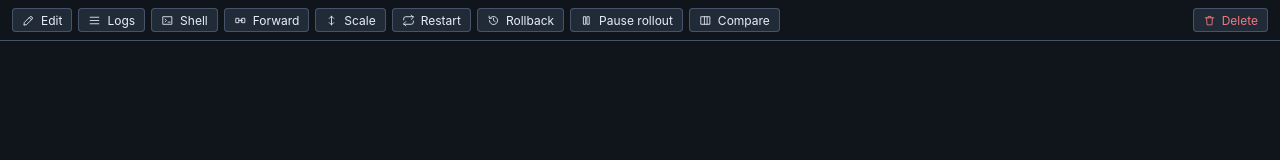
scale opens a field holding the count the workload is at
The image size is (1280, 160).
Click the button "Scale".
click(351, 20)  # box [315, 8, 386, 32]
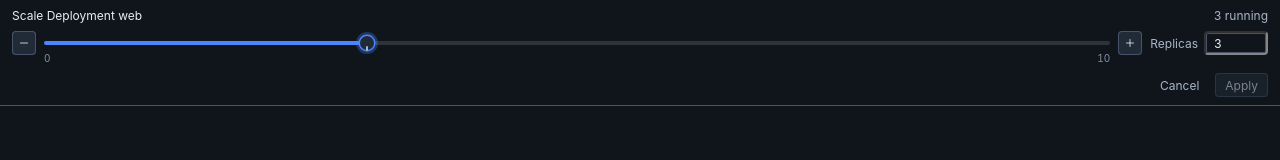
Result: the number field labelled "Replicas" holds "3" at [1204, 31, 1268, 55]
